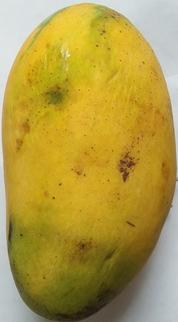Ripe: (0, 1, 178, 322)
